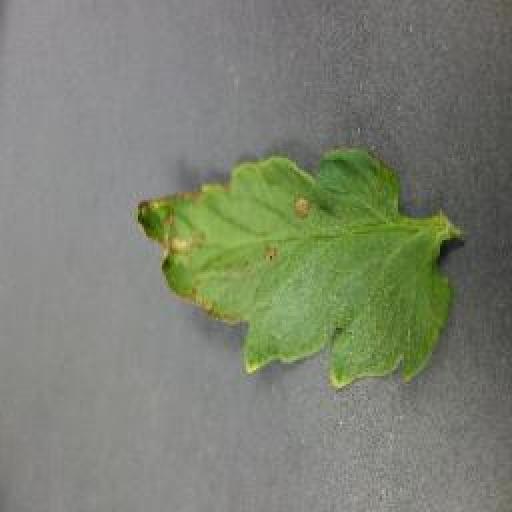Bacterial Spot: (135, 146, 452, 390)
